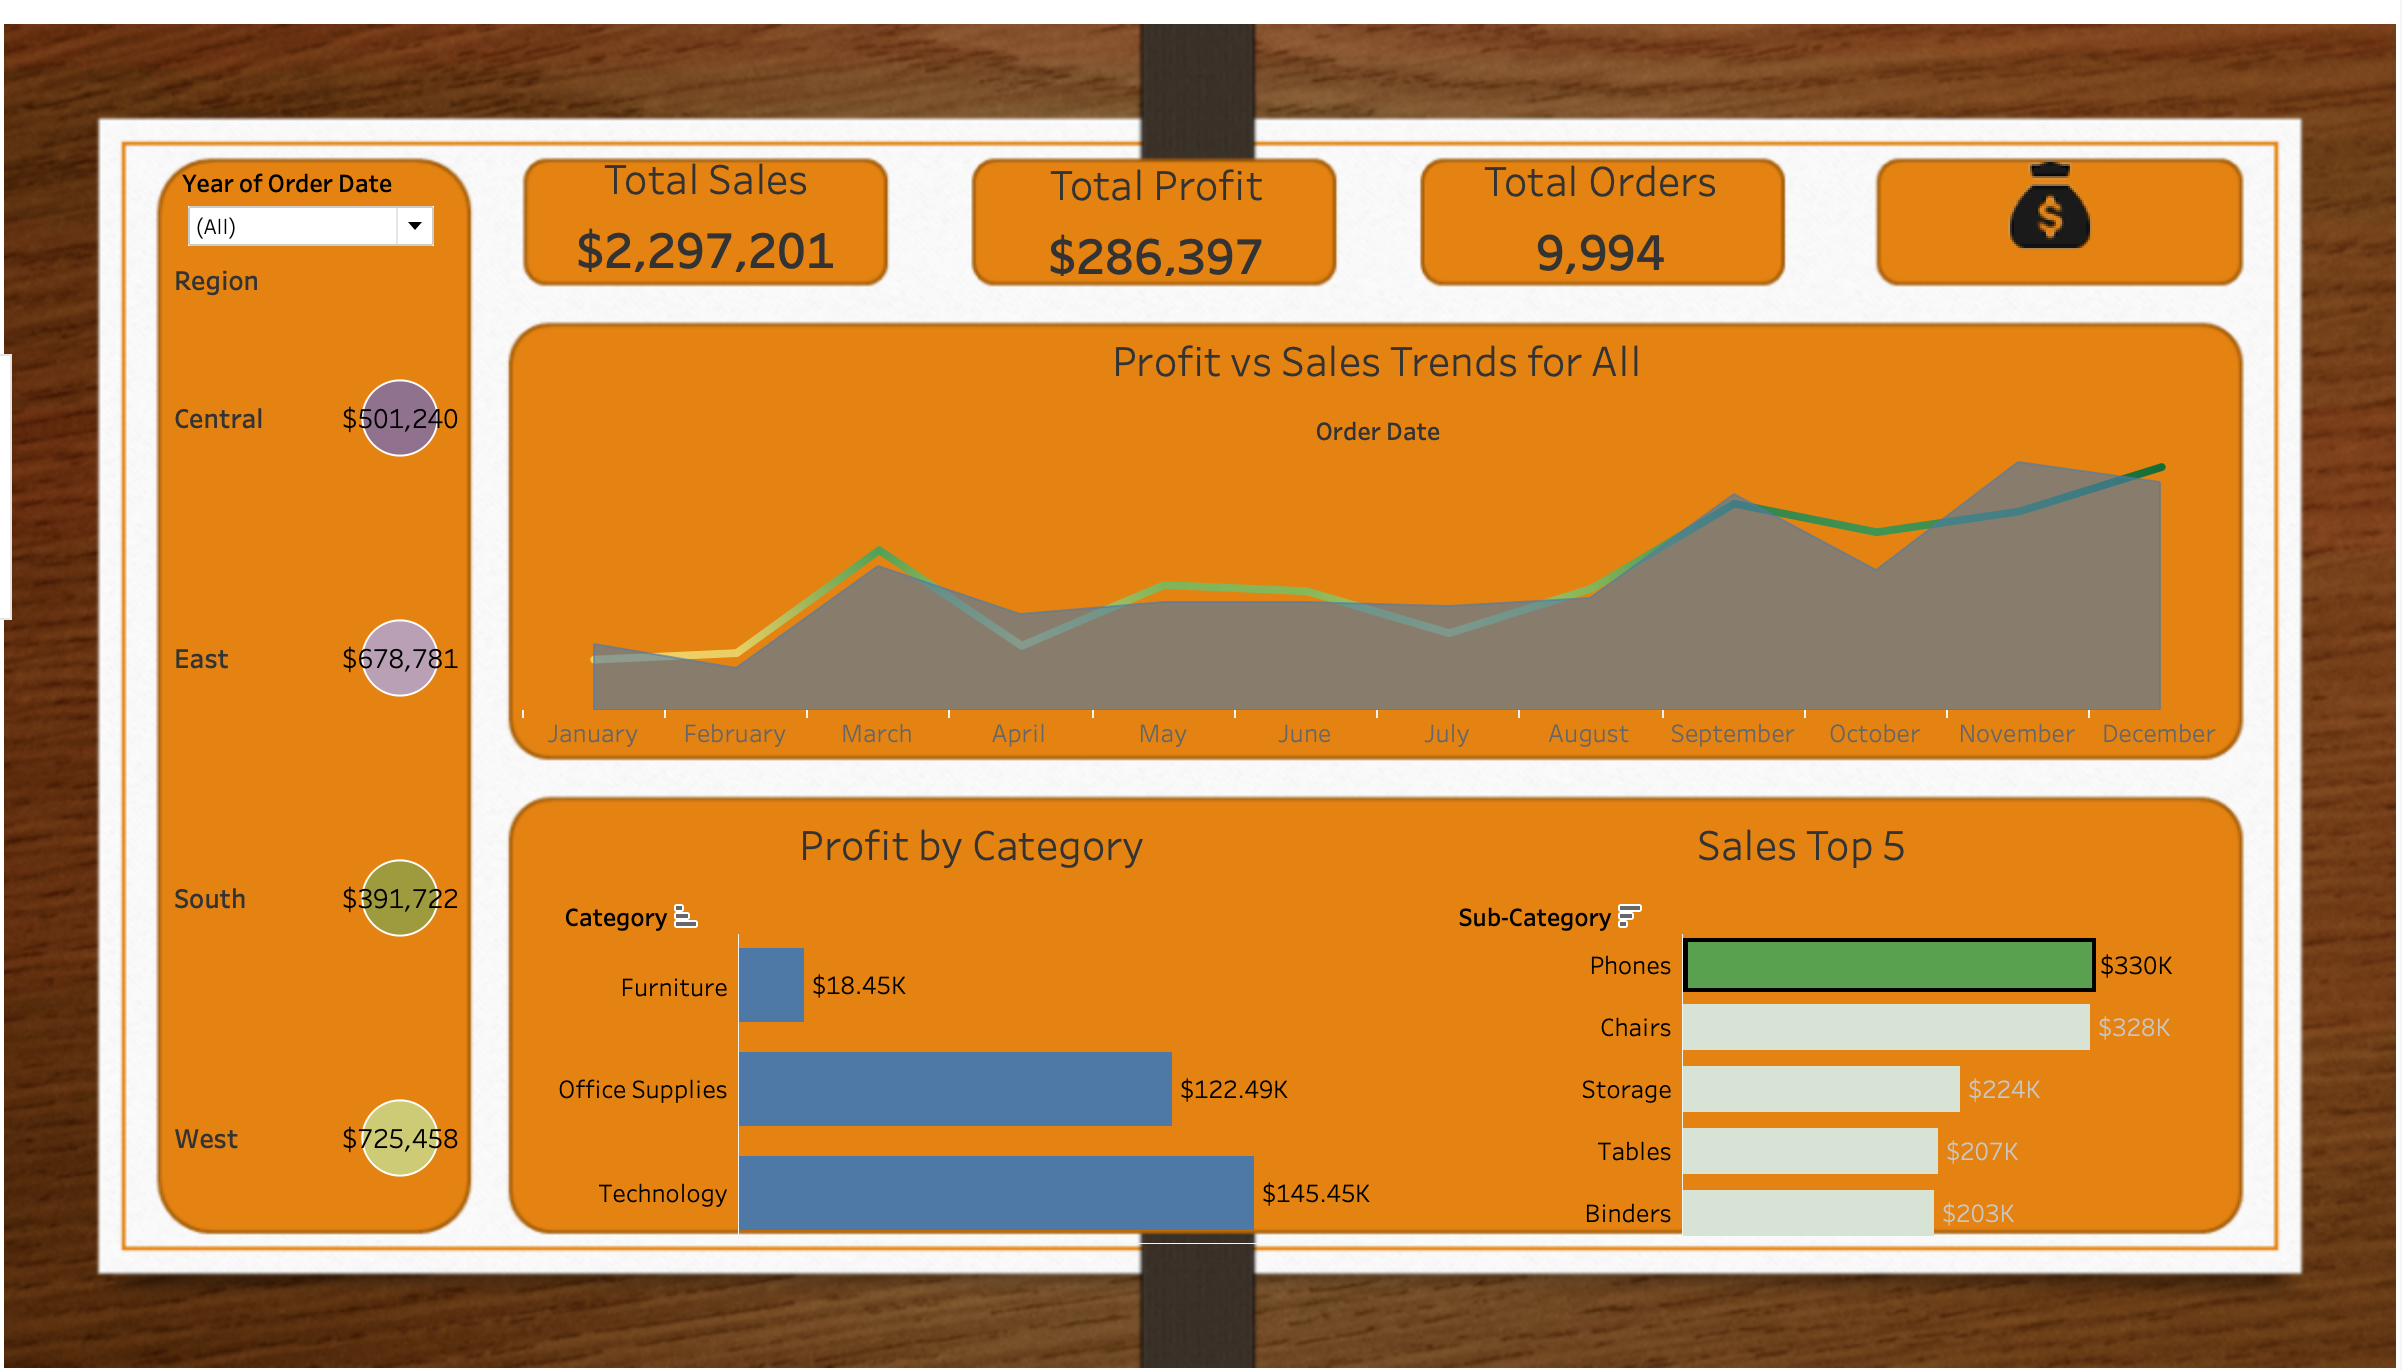

The dashboard page shown, as its layout file describes it:
{"tool":"tableau","page":{"name":"Super Store main","canvas":[1600,900],"ordinal":1},"visuals":[{"type":"image","param":"Image/orange dashboard.png","box":[2,3,1595,893]},{"type":"worksheet","title":"Total Sales","mark":"Automatic","box":[353,93,236,83]},{"type":"worksheet","title":"Total Orders","mark":"Automatic","box":[949,94,236,83]},{"type":"worksheet","title":"Total Profit","mark":"Automatic","box":[653,96,236,83]},{"type":"dashboard-object","box":[1285,103,164,66]},{"type":"filter","title":"Profit by Category","param":"[federated.0bmdtqc12doy73158n0iz19zga0o].[yr:Order Date:ok]","box":[121,108,172,54]},{"type":"worksheet","title":"Sales by Region","mark":"Pie","rows":["Region"],"box":[108,167,211,643]},{"type":"worksheet","title":"Profit vs Sales trends","mark":"Automatic","rows":["Profit","Sales"],"cols":["Order Date"],"box":[348,210,1140,275]},{"type":"worksheet","title":"Profit by Category","mark":"Bar","rows":["Category"],"cols":["Profit"],"box":[358,521,579,280]},{"type":"worksheet","title":"Sales top 5 subcat","mark":"Automatic","rows":["Sub-Category"],"cols":["Sales"],"box":[935,521,533,280]}]}

Visuals, with their boxes in screenshot pixels (x1, y1, x2, y2), scaled from the page's 1600x900 canvas onto the 2402x1370 screenshot:
image: [3, 5, 2397, 1364]
"Total Sales" worksheet: [530, 142, 884, 268]
"Total Orders" worksheet: [1425, 143, 1779, 269]
"Total Profit" worksheet: [980, 146, 1335, 272]
dashboard-object: [1929, 157, 2175, 257]
"Profit by Category" filter: [182, 164, 440, 247]
"Sales by Region" worksheet (Pie marks): [162, 254, 479, 1233]
"Profit vs Sales trends" worksheet: [522, 320, 2234, 738]
"Profit by Category" worksheet (Bar marks): [537, 793, 1407, 1219]
"Sales top 5 subcat" worksheet: [1404, 793, 2204, 1219]
